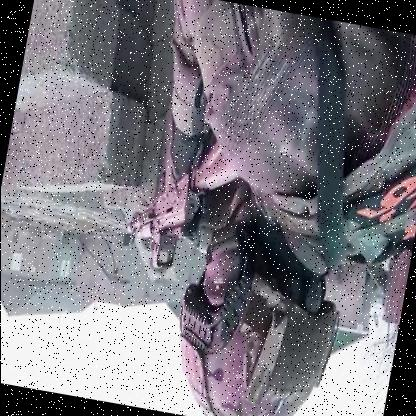rifle: (116, 99, 260, 288)
